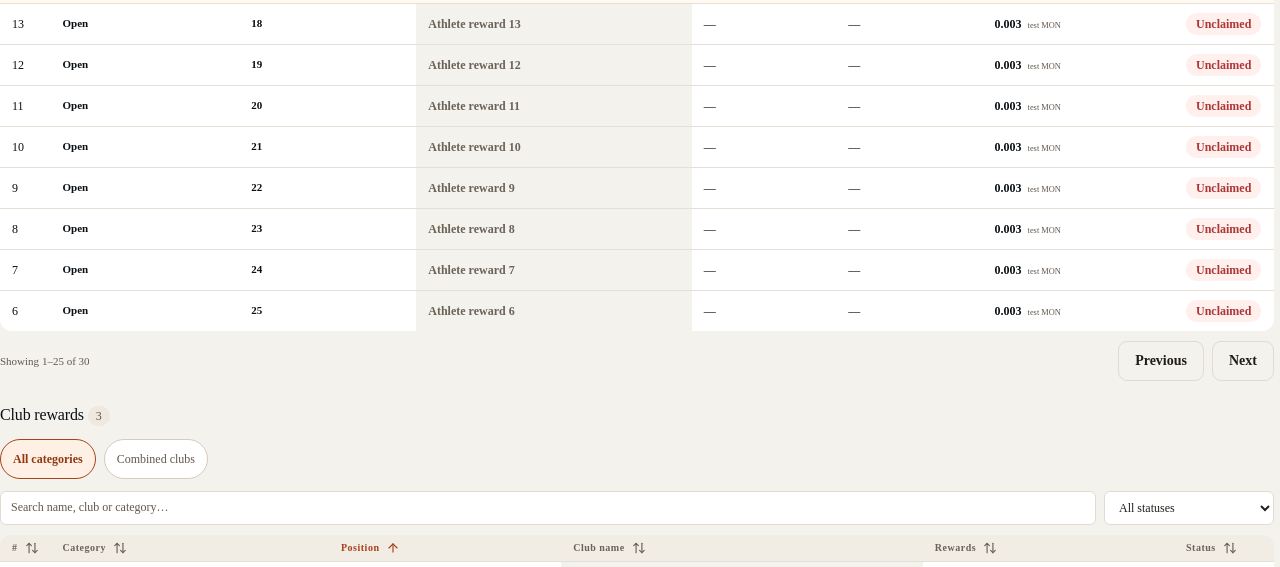
defaults to ascending position and combines exact category filters with search and status independently per ledger
(page scrolled)
Click the button "Next". click: x=1243, y=361
box: [1212,341,1274,381]
(page scrolled)
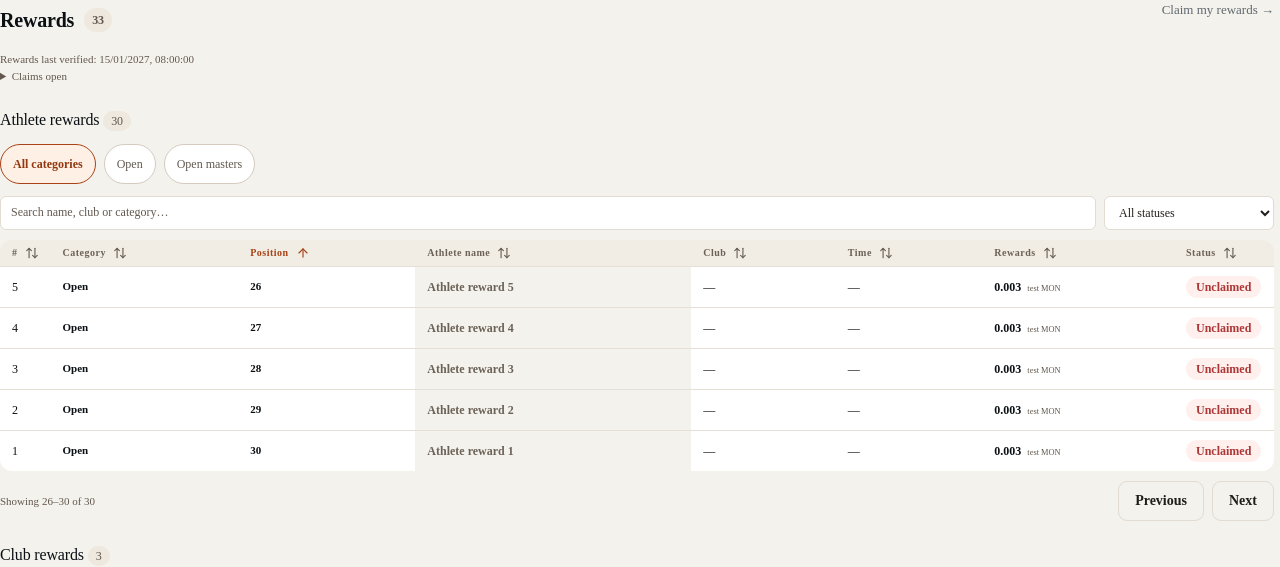
Click the button "Open". click: x=130, y=164
box: [104,144,156,184]
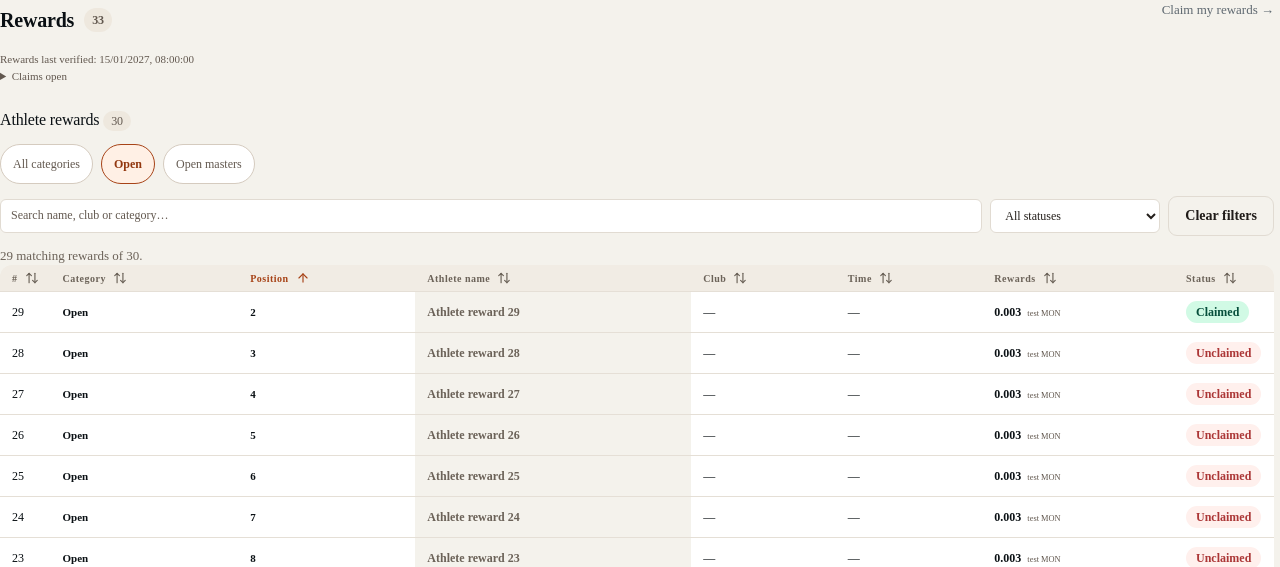
expect the column heading "Athlete reward 29" is shown: met, box [415,292,691,333]
expect the text "29 matching rewards of 30." is shown: met, box [0,248,143,263]
Select "Claimed" in the dropdown named "Athlete rewards · Reward status". click: x=1075, y=216
box: [990,199,1160,233]
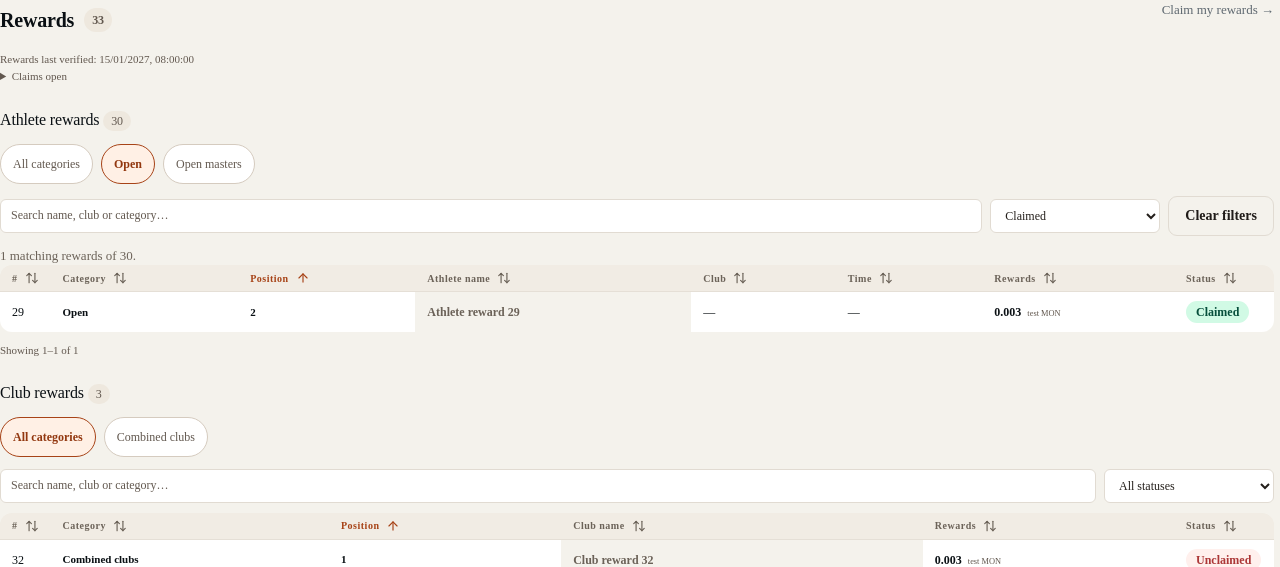
Type "missing" into the field named "Athlete rewards · Search rewards". click: x=491, y=216
box: [0,199,982,233]
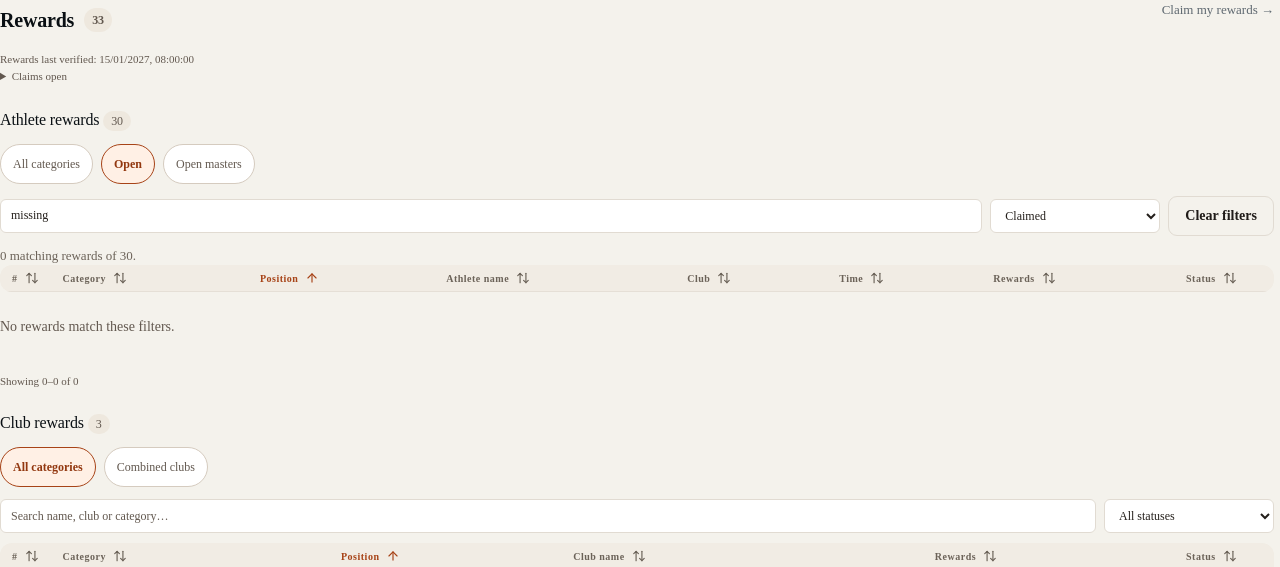
Click the button "Clear filters". click: x=1221, y=216
box: [1168,196,1274,236]
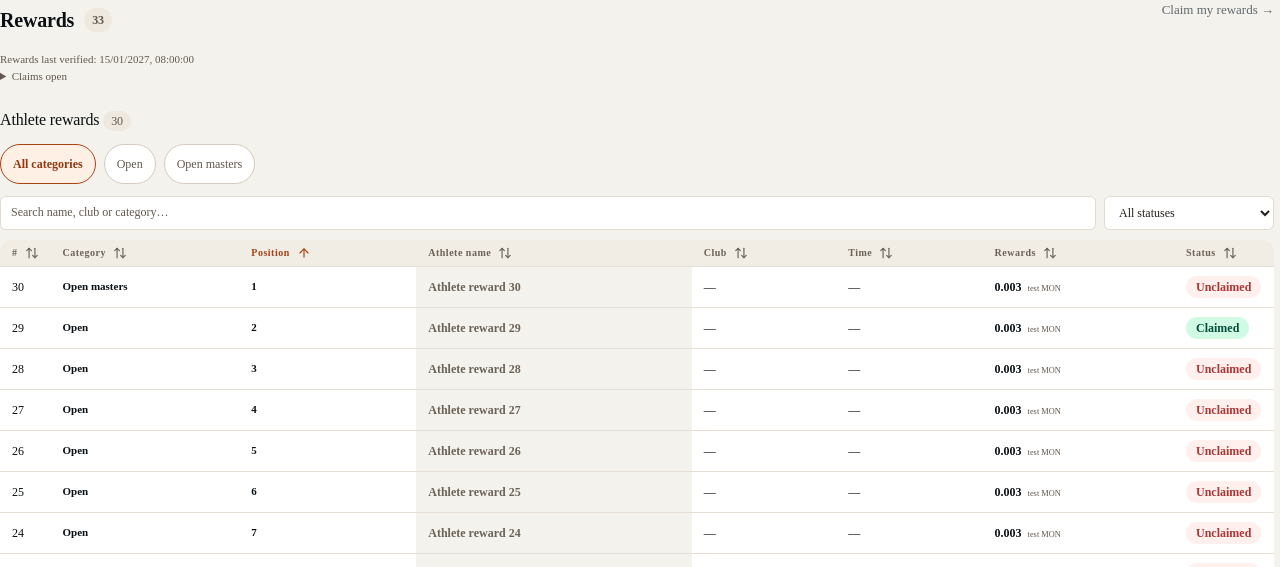
expect the column heading "Athlete reward 30" is shown: met, box [416,267,692,307]
